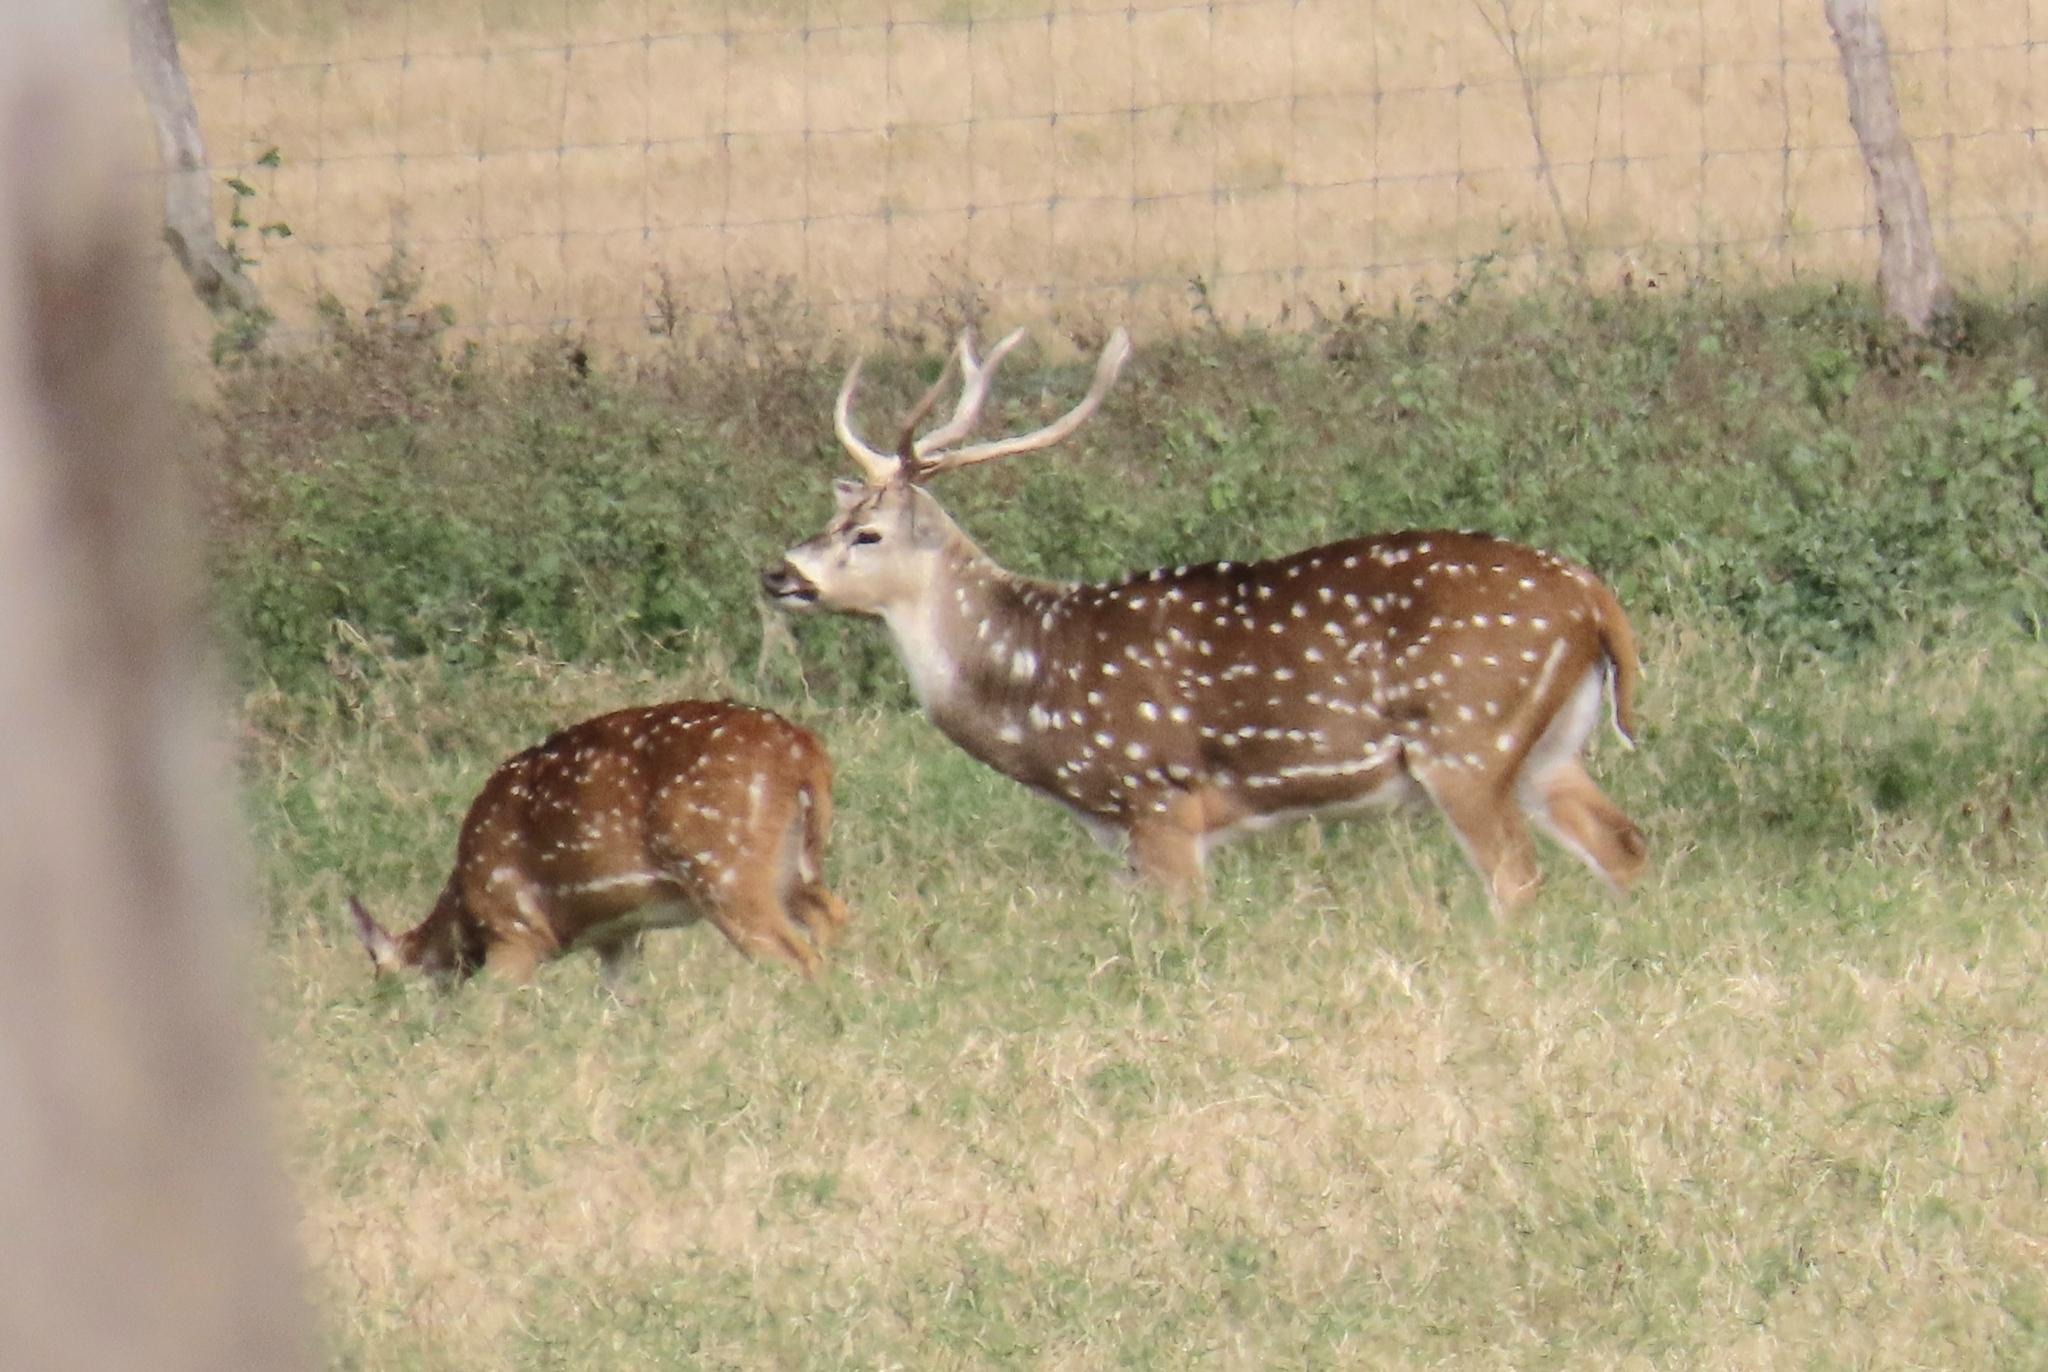Deer: (762, 328, 1644, 913), (349, 700, 845, 978)
